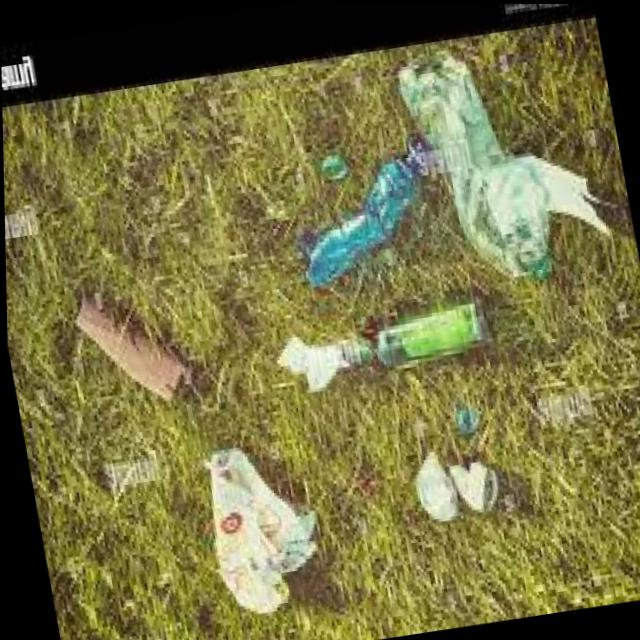foam box: (327, 287, 502, 390)
food: (399, 417, 517, 565), (263, 312, 355, 404)
leaf: (395, 37, 616, 295), (276, 119, 450, 307), (172, 436, 325, 624), (61, 273, 194, 424)
